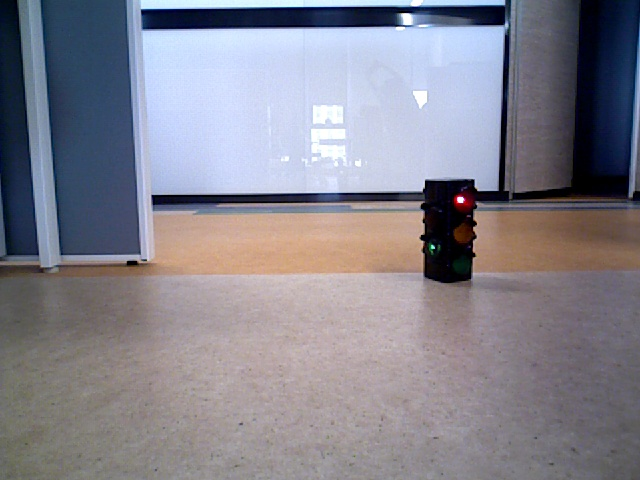red: (425, 181, 471, 280)
